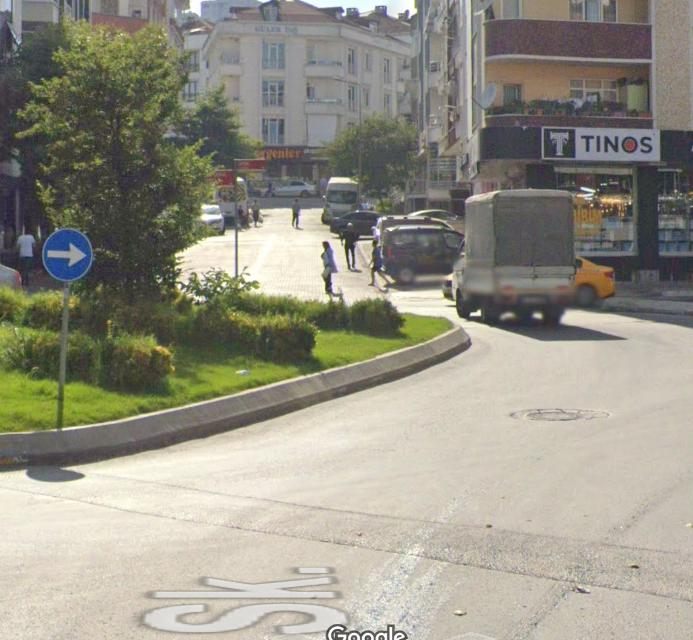turnright: (43, 226, 94, 282)
